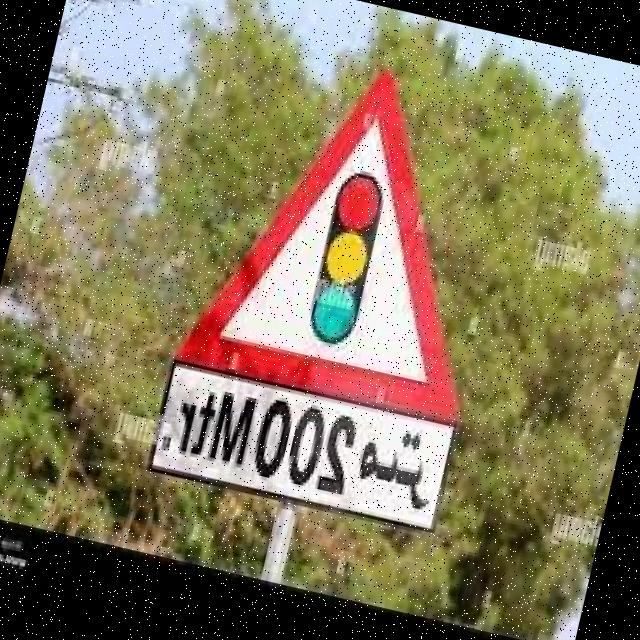light_traffic: (165, 21, 538, 434)
